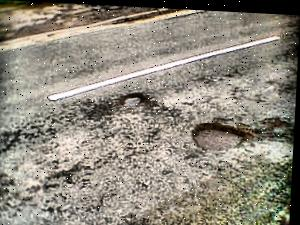pothole: (190, 115, 248, 152), (117, 89, 146, 107)
